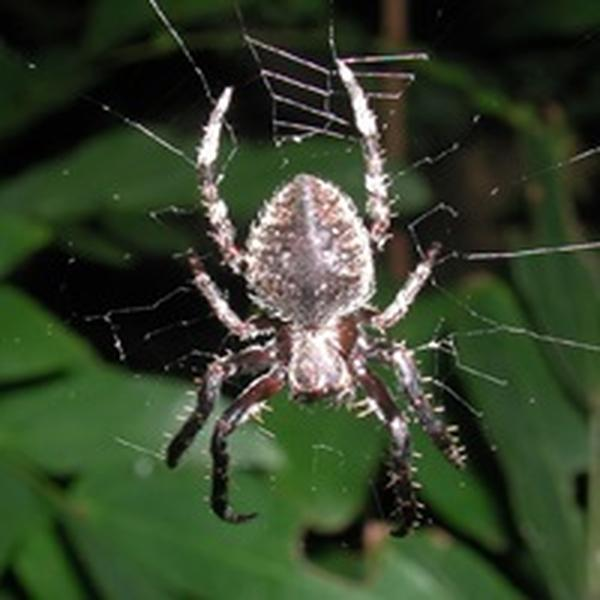Garden Orb Weaver Spider: (180, 80, 461, 523)
